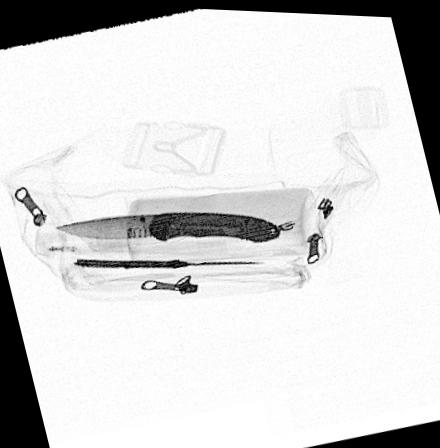Knife: (52, 209, 281, 239), (70, 256, 262, 266)
